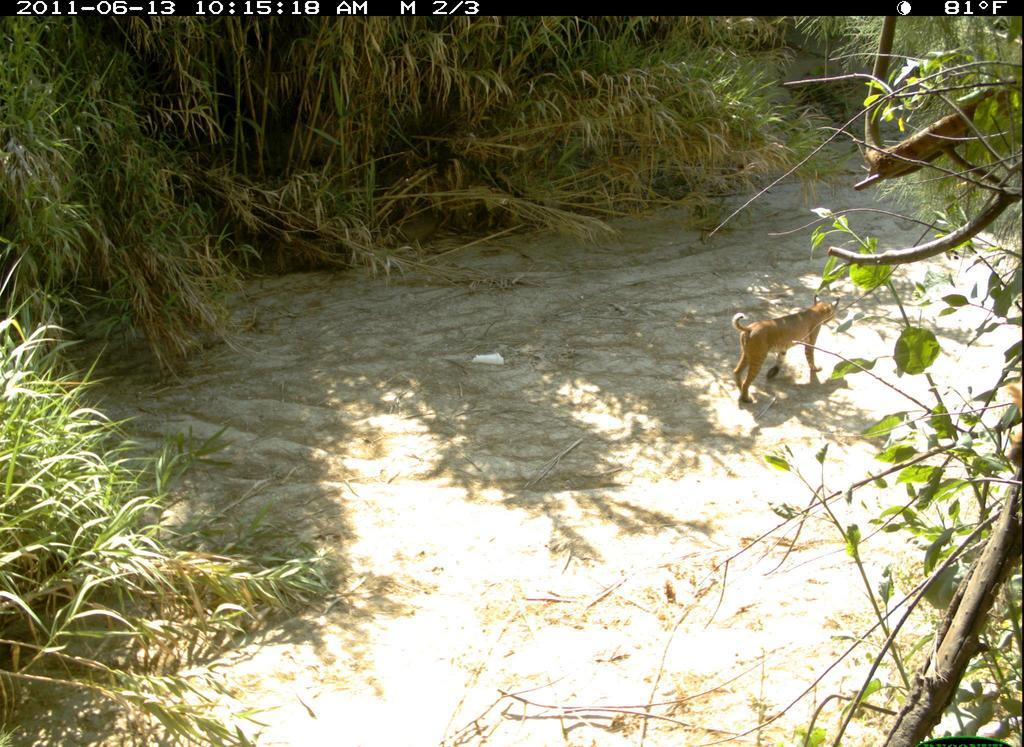bobcat: (717, 287, 857, 415)
